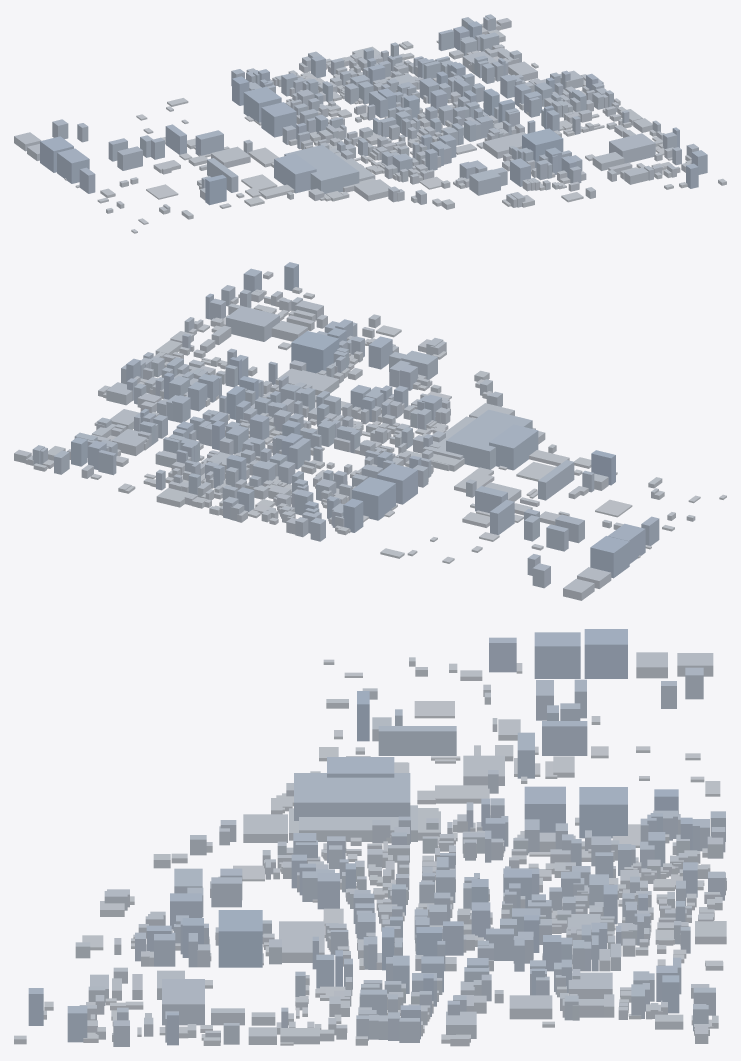
The picture shows the model from 3 angles, top to bottom: view 1: azimuth 30°, elevation 25°; view 2: azimuth 150°, elevation 25°; view 3: azimuth 270°, elevation 25°; orthographic projection. The views are drawn at different scales.
Size of the model in its own units: 1143 by 51.43 by 895.
